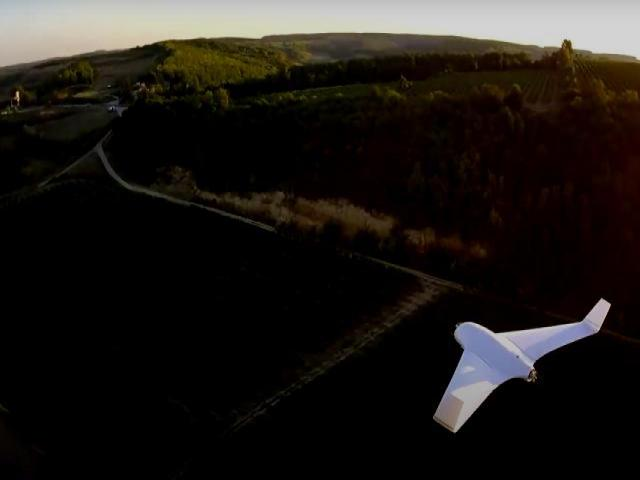iha: (426, 295, 613, 435)
